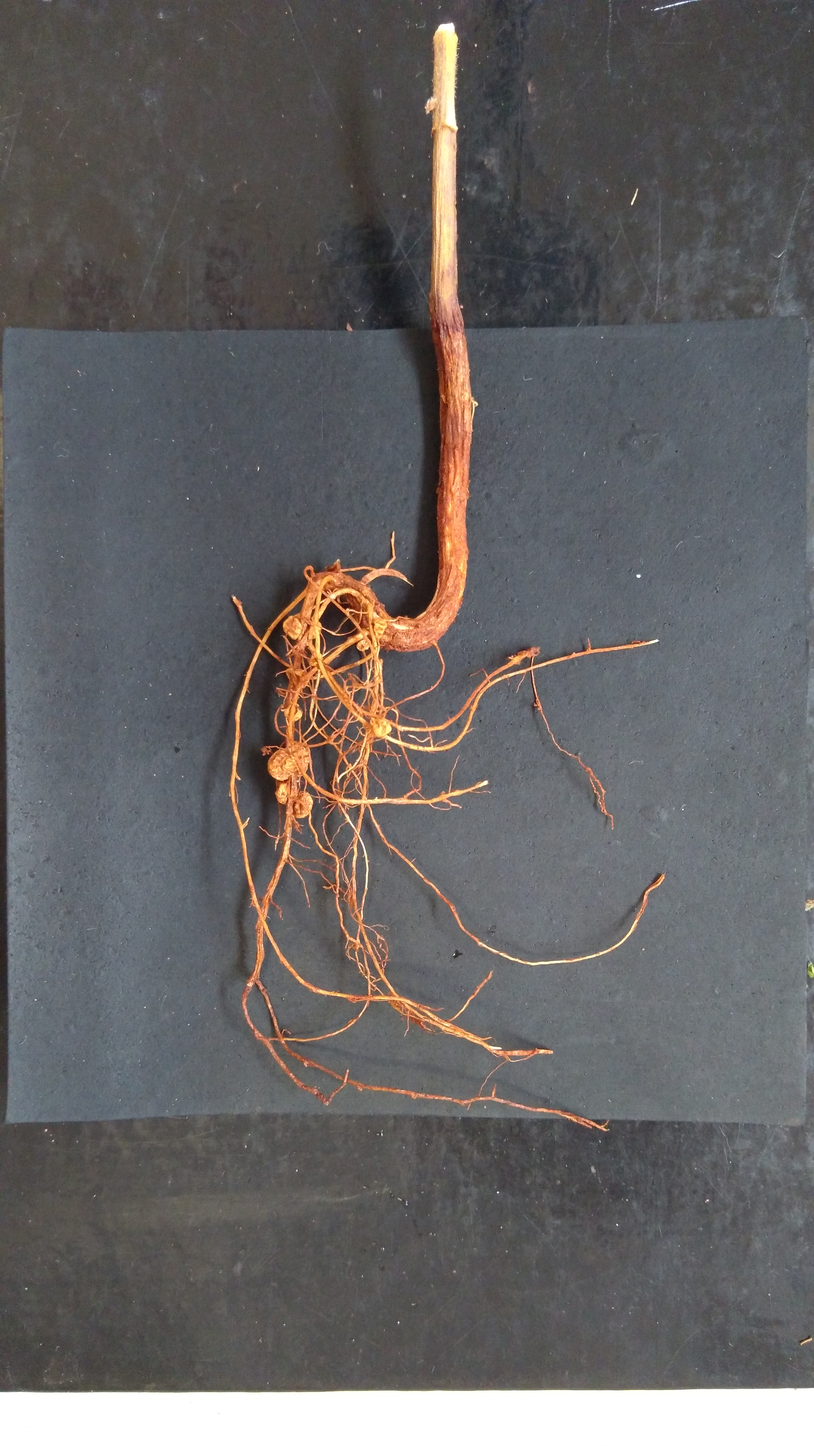nodule: (266, 748, 298, 782), (290, 740, 311, 778), (293, 790, 314, 820), (282, 615, 303, 641), (371, 717, 393, 739), (372, 616, 388, 639), (292, 669, 310, 688), (282, 705, 303, 721), (274, 782, 287, 805), (310, 621, 323, 640), (355, 638, 370, 653)
